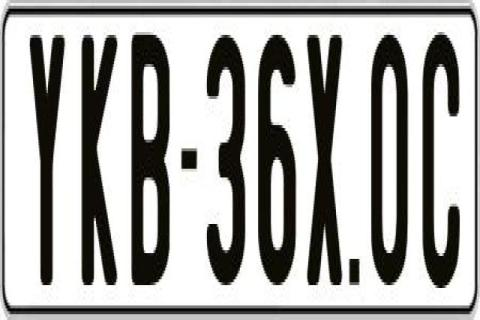0: (204, 32, 244, 300), (258, 29, 298, 294), (369, 29, 407, 282)
B: (128, 26, 172, 294)
C: (422, 32, 466, 288)
K: (82, 27, 118, 286)
X: (306, 32, 344, 294)
Y: (28, 35, 66, 294)
